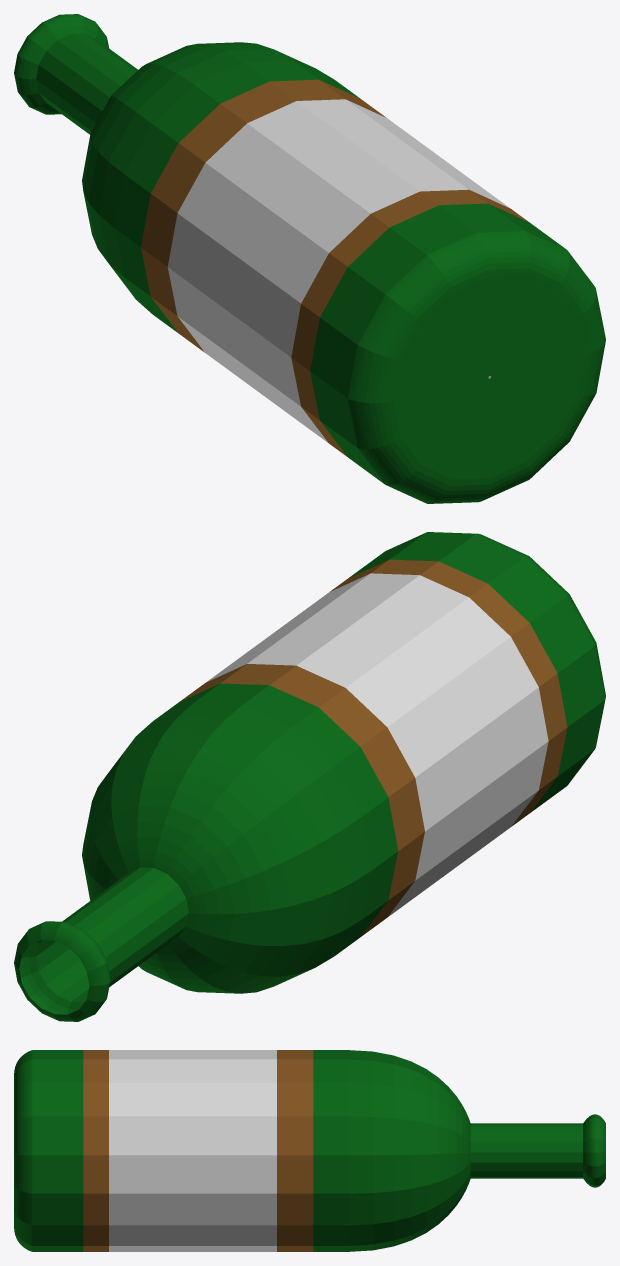
File: bottle.fbx
The picture shows the model from 3 angles, top to bottom: view 1: azimuth 30°, elevation 25°; view 2: azimuth 150°, elevation 25°; view 3: azimuth 270°, elevation 25°; orthographic projection. The views are drawn at different scales.
Parts seen in each view (by area): view 1: Curve; view 2: Curve; view 3: Curve.
Part boxes in pixels (x1,y1,x2,y2): Curve: (14,14,605,503); Curve: (14,532,605,1021); Curve: (14,1050,605,1251).
Size of the model in its own units: 37.25 by 37.25 by 109.
